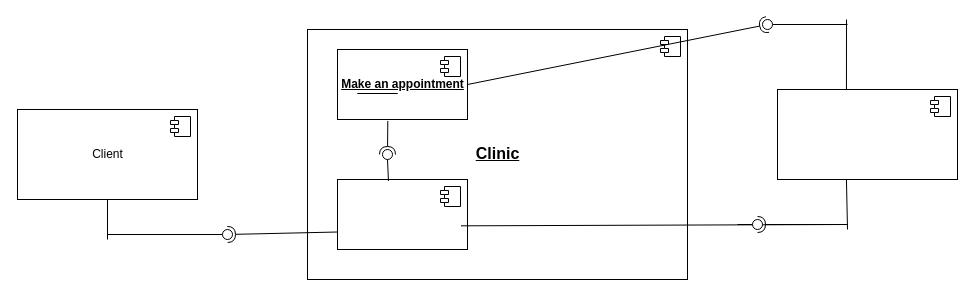
This 975x297 diagram has some shape labels left out. Each missing label, with the centre of its shape:
Doctor: pixel 867 134
Reception: pixel 402 214
